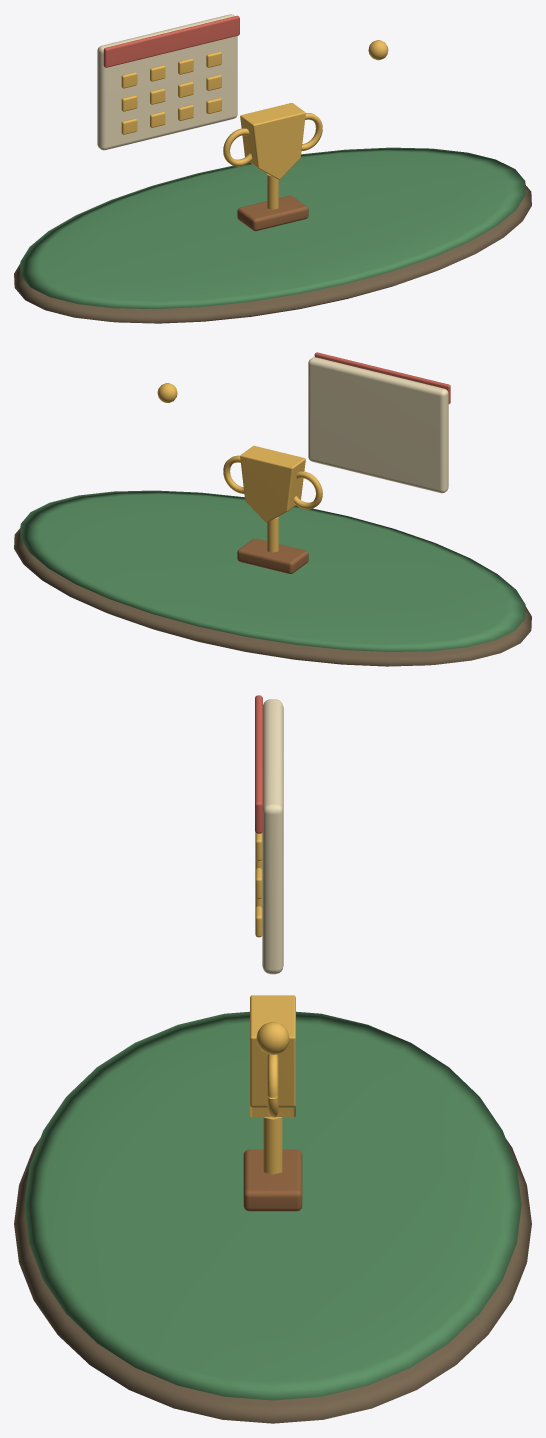
Rendered from complete-first-number-one.glb.
3 views of the same model, one above another, from view 1: azimuth 30°, elevation 25°; view 2: azimuth 150°, elevation 25°; view 3: azimuth 270°, elevation 25° (orthographic). The views are drawn at different scales.
Parts seen in each view (by area): view 1: complete-first-number-one_surface_01, complete-first-number-one_surface_02, complete-first-number-one_surface_00, complete-first-number-one_surface_04, complete-first-number-one_surface_03, complete-first-number-one_surface_05; view 2: complete-first-number-one_surface_01, complete-first-number-one_surface_02, complete-first-number-one_surface_00, complete-first-number-one_surface_04, complete-first-number-one_surface_05, complete-first-number-one_surface_03; view 3: complete-first-number-one_surface_01, complete-first-number-one_surface_00, complete-first-number-one_surface_04, complete-first-number-one_surface_02, complete-first-number-one_surface_05, complete-first-number-one_surface_03.
Boxes of the visible parts, box(x1,y1,x2,y2) form: complete-first-number-one_surface_01: box(20, 147, 525, 309); complete-first-number-one_surface_02: box(97, 14, 237, 150); complete-first-number-one_surface_00: box(14, 185, 531, 323); complete-first-number-one_surface_04: box(121, 40, 388, 209); complete-first-number-one_surface_03: box(103, 15, 239, 67); complete-first-number-one_surface_05: box(237, 195, 308, 231); complete-first-number-one_surface_01: box(20, 490, 525, 651); complete-first-number-one_surface_02: box(308, 357, 448, 493); complete-first-number-one_surface_00: box(14, 528, 531, 666); complete-first-number-one_surface_04: box(157, 383, 322, 552); complete-first-number-one_surface_05: box(237, 538, 308, 573); complete-first-number-one_surface_03: box(314, 352, 450, 403); complete-first-number-one_surface_01: box(24, 1011, 521, 1400); complete-first-number-one_surface_00: box(14, 1139, 531, 1423); complete-first-number-one_surface_04: box(250, 832, 295, 1174); complete-first-number-one_surface_02: box(262, 699, 283, 974); complete-first-number-one_surface_05: box(243, 1149, 302, 1211); complete-first-number-one_surface_03: box(255, 695, 262, 833).
Bounding box in the file's own units: 4.56 × 2.21 × 2.5.
